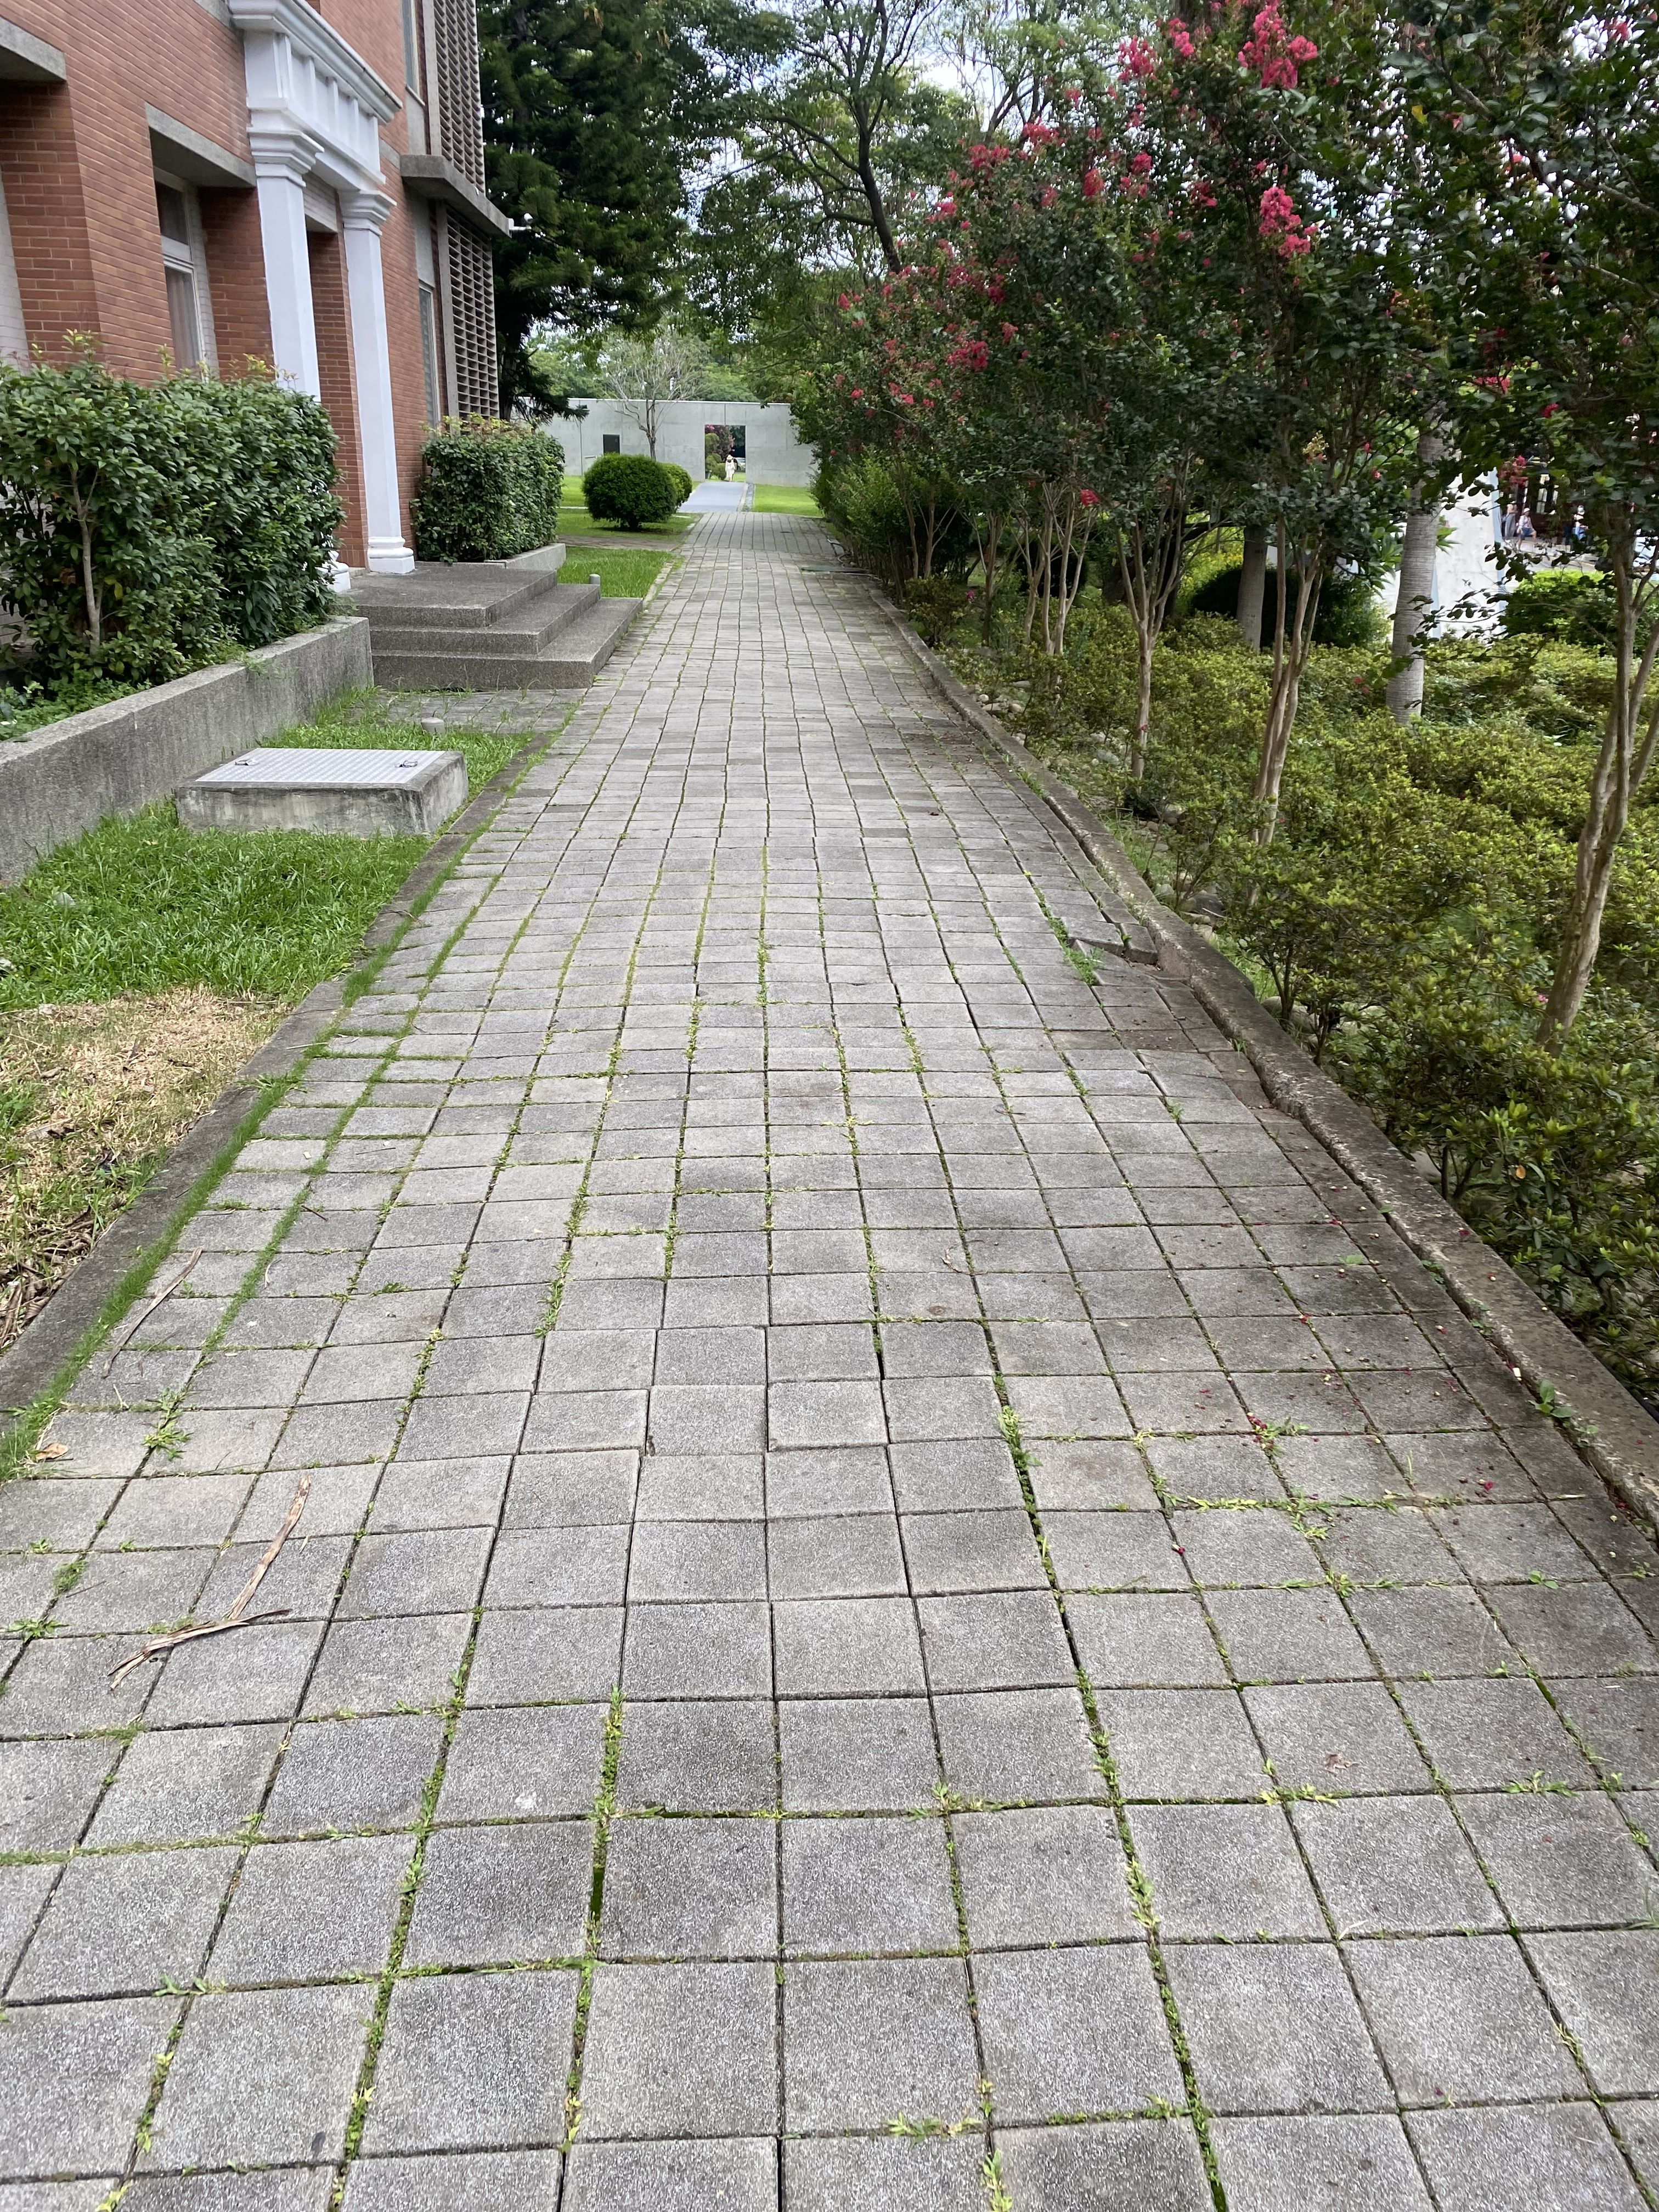0: (3, 698, 589, 2198)
sidewalk: (586, 469, 1657, 2212)
